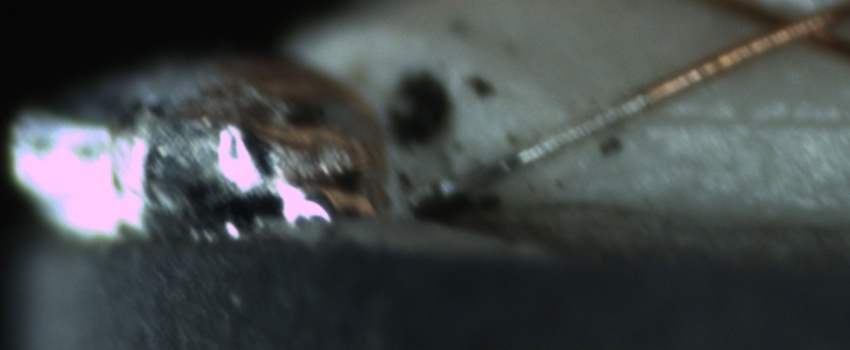CL: (745, 2, 838, 57)
DL: (636, 93, 850, 146)
TS: (410, 90, 648, 208)
